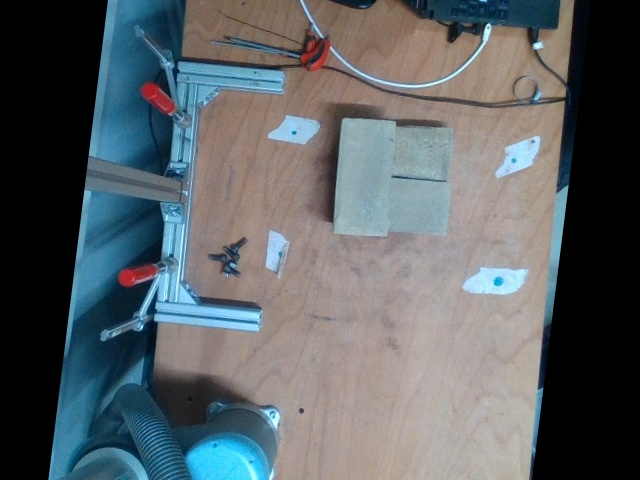brick: (335, 118, 396, 237)
